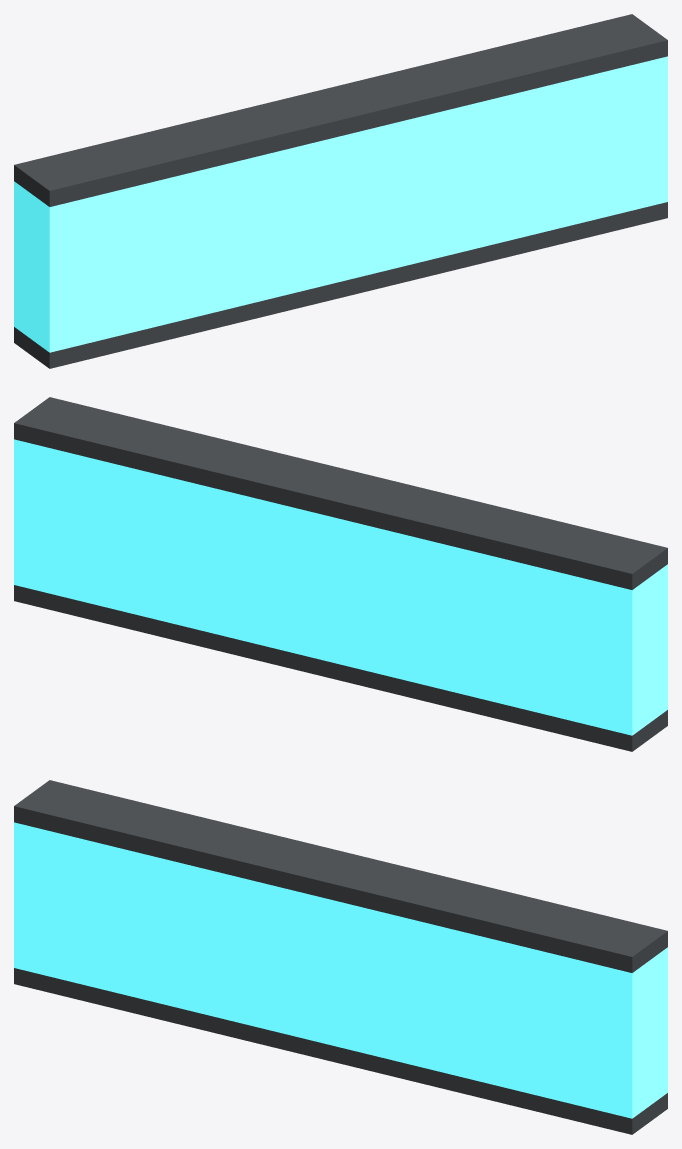
File: ENV_MOD_06_LowCoverHalfWall.glb
The picture shows the model from 3 angles, top to bottom: view 1: azimuth 30°, elevation 25°; view 2: azimuth 150°, elevation 25°; view 3: azimuth 330°, elevation 25°; orthographic projection.
Visible parts, largest first — view 1: SM_ENV_MOD_06_LowCoverHalfWall; view 2: SM_ENV_MOD_06_LowCoverHalfWall; view 3: SM_ENV_MOD_06_LowCoverHalfWall.
Boxes of the visible parts, x1,y1,x2,y2 form: SM_ENV_MOD_06_LowCoverHalfWall: [14, 14, 667, 368]; SM_ENV_MOD_06_LowCoverHalfWall: [14, 397, 667, 751]; SM_ENV_MOD_06_LowCoverHalfWall: [14, 780, 667, 1134].
Bounding box in the file's own units: 4 × 1.1 × 0.4.
